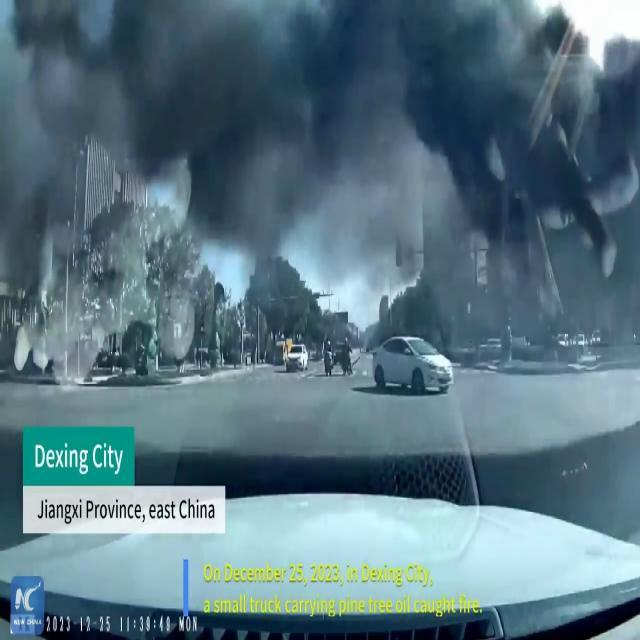Smoke: (1, 0, 637, 302)
